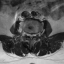CCS_severe_stenosis: (30, 31, 32, 41)
LFS_stenosis: (34, 31, 37, 38)
LLS_stenosis: (32, 31, 34, 38)
RFS_normal: (25, 31, 28, 37)
RLS_normal: (28, 31, 30, 38)
